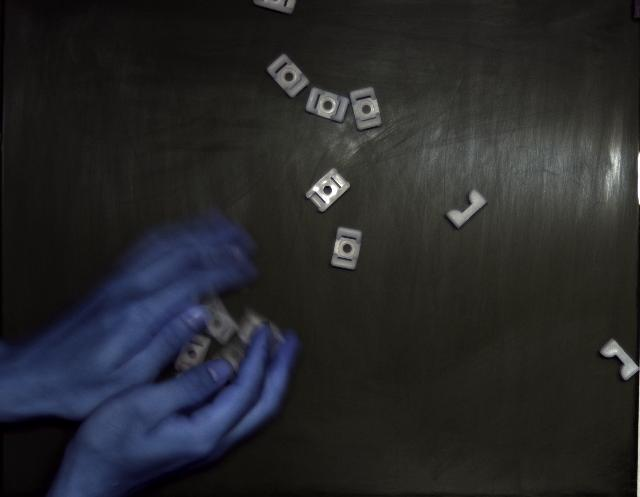first_side: (268, 54, 309, 98), (306, 88, 349, 122), (350, 88, 382, 130), (331, 228, 362, 270)
second_side: (306, 169, 350, 212)
third_side: (600, 339, 640, 381), (446, 190, 488, 229)
